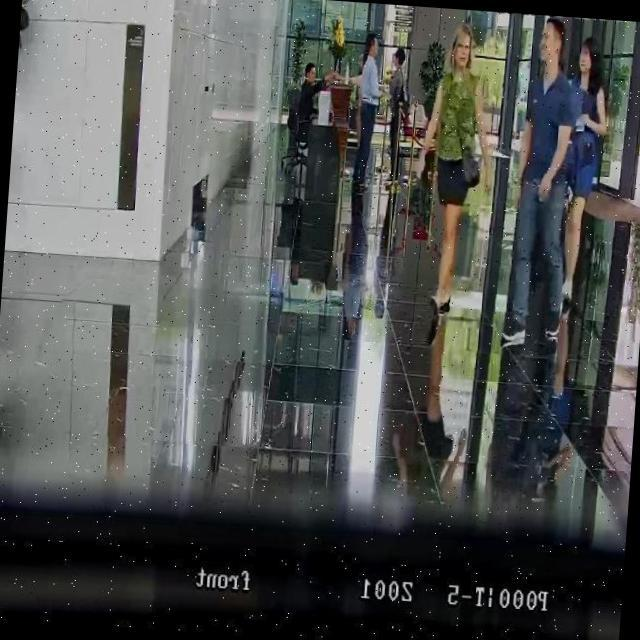person: (500, 13, 586, 351), (411, 19, 498, 321), (556, 34, 614, 305), (348, 32, 384, 193), (382, 48, 410, 184), (294, 60, 327, 151)
